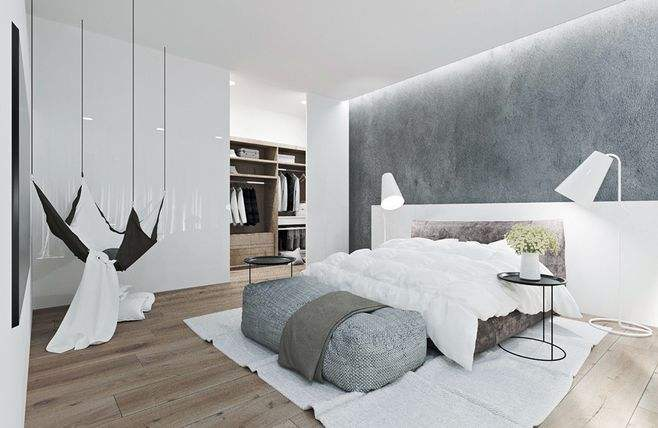床: (281, 221, 554, 371)
灯: (563, 149, 657, 340), (381, 169, 407, 215)
